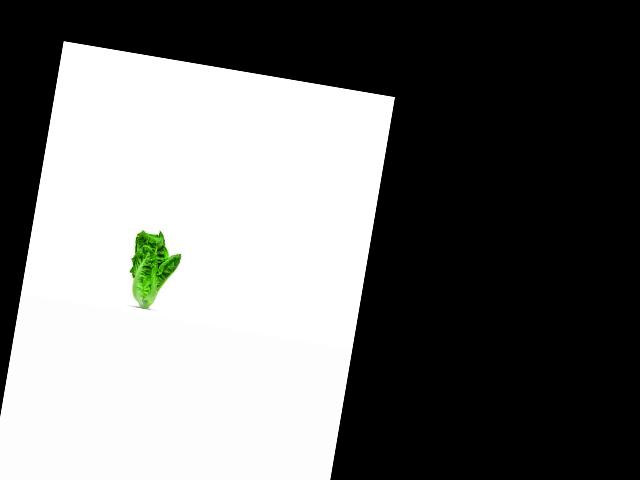lettuce: (121, 226, 185, 310)
